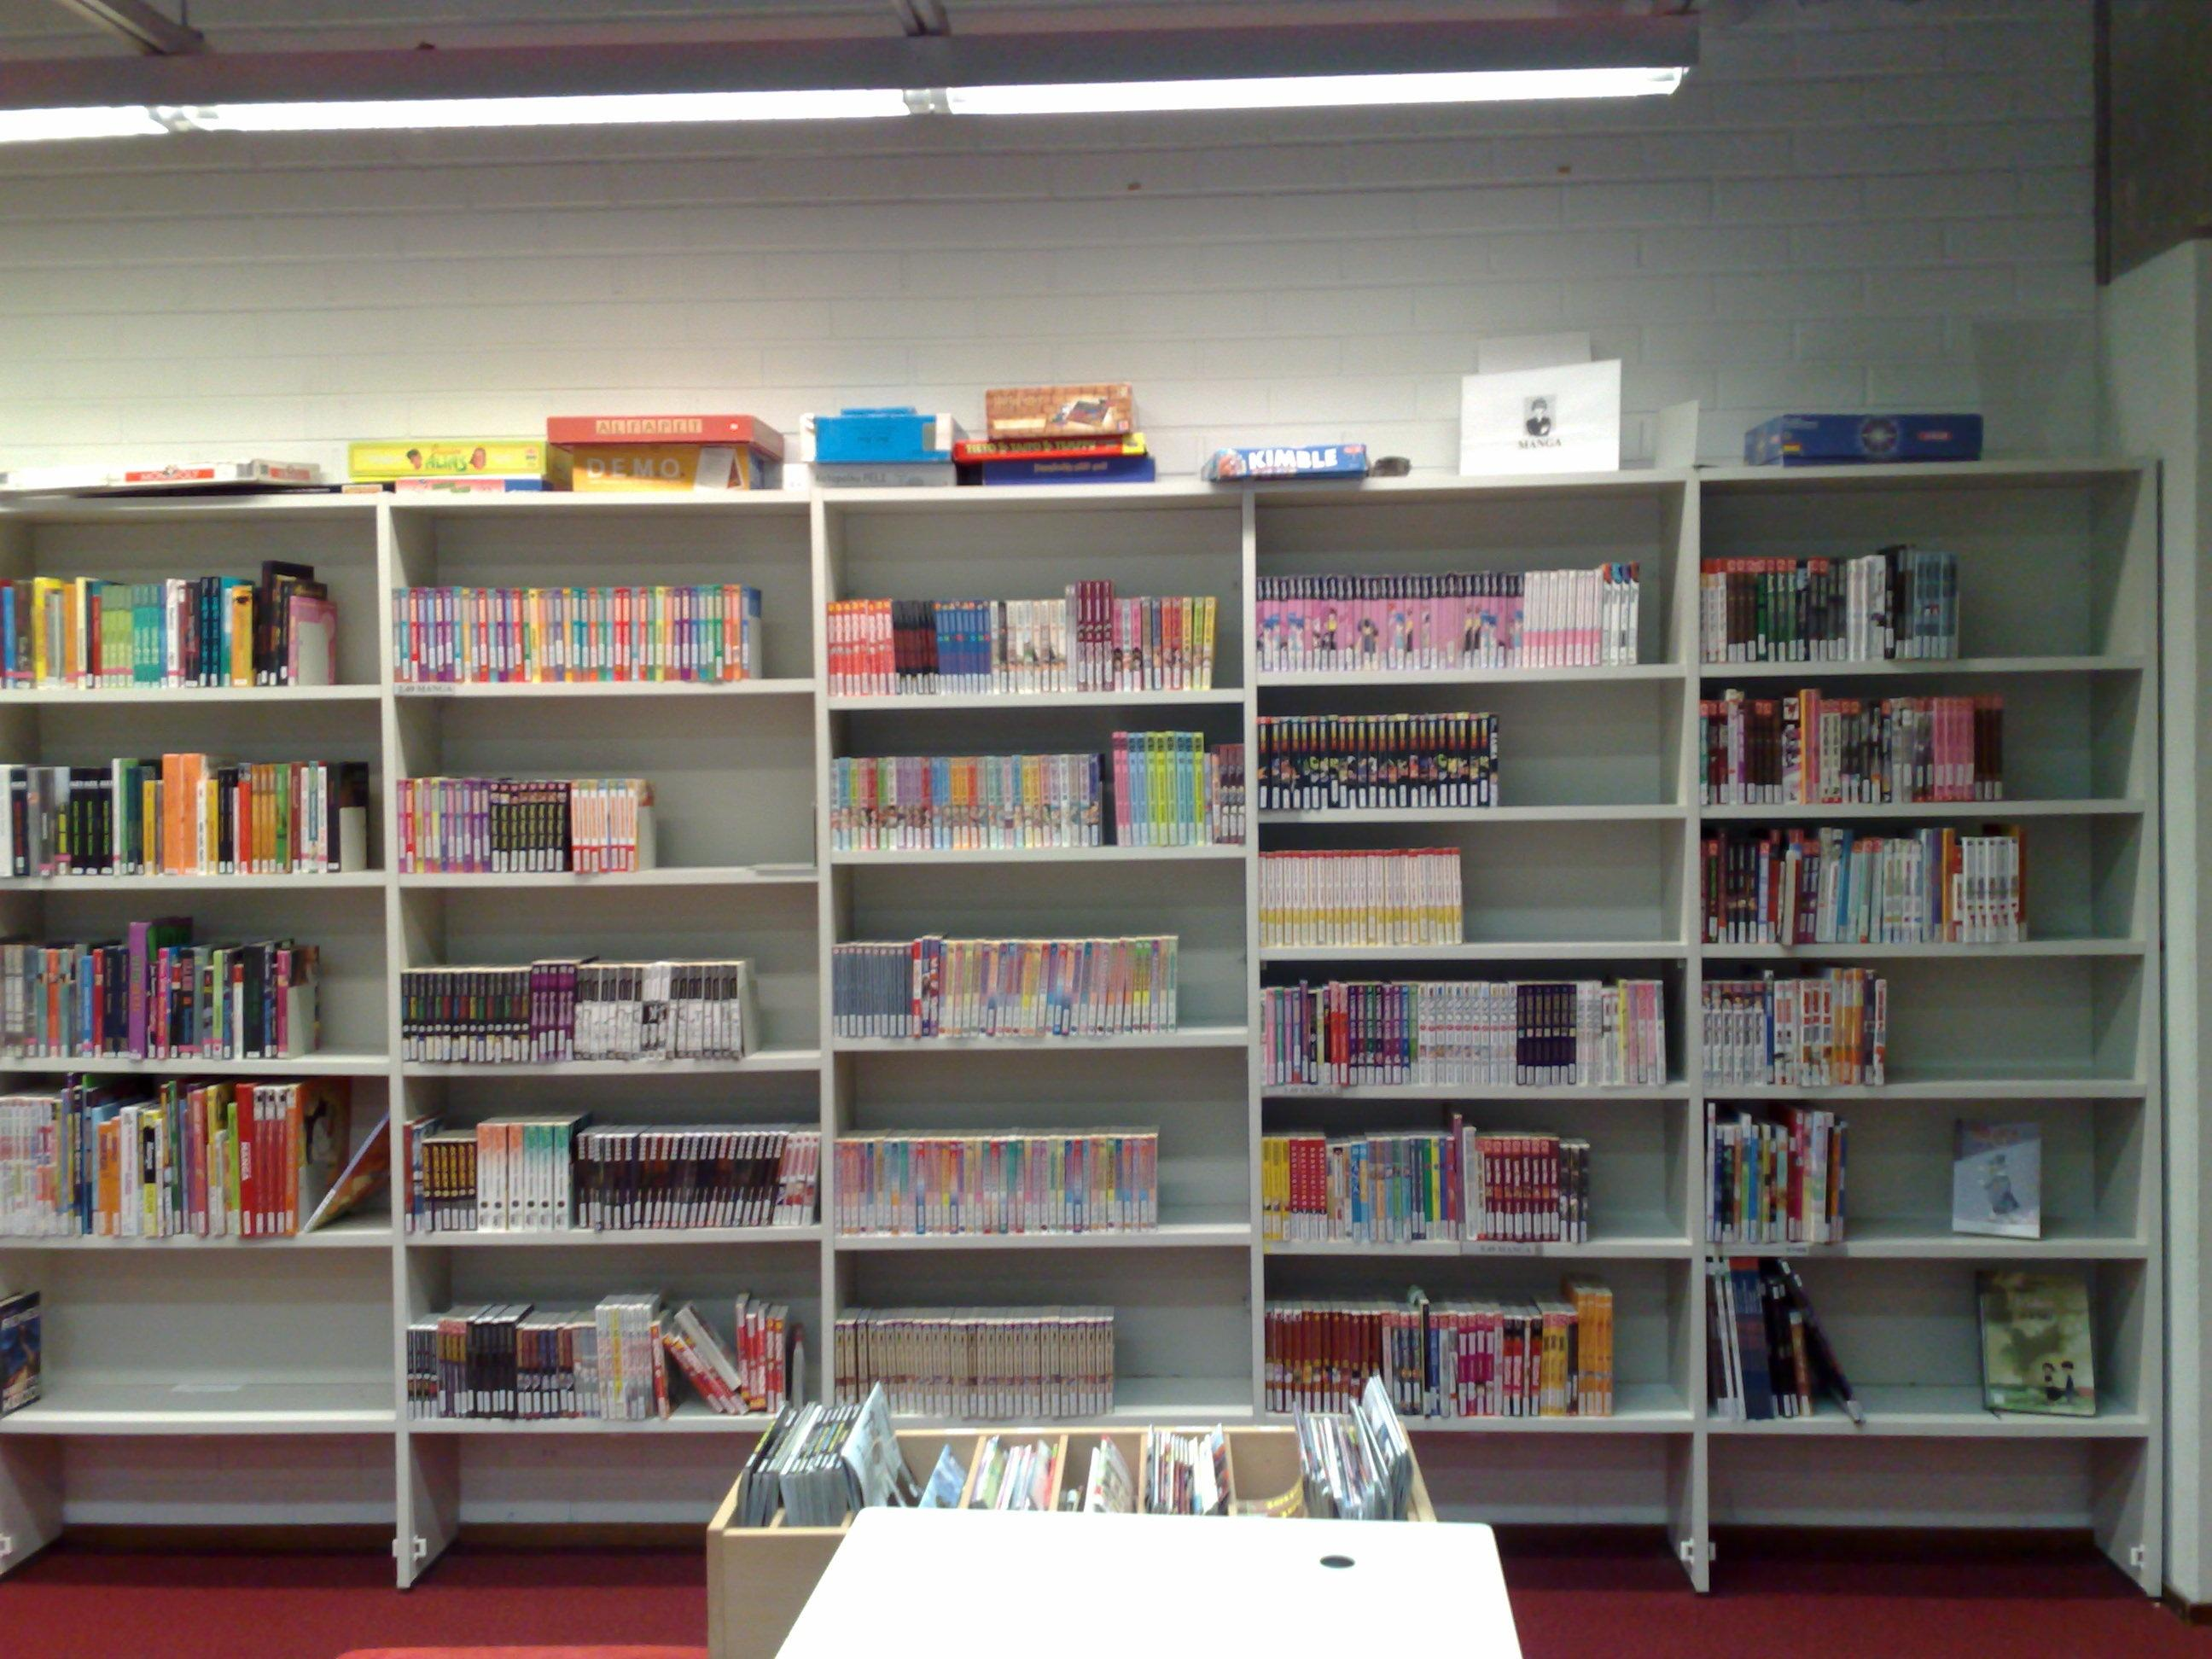Rak: (2, 448, 2163, 1438)
